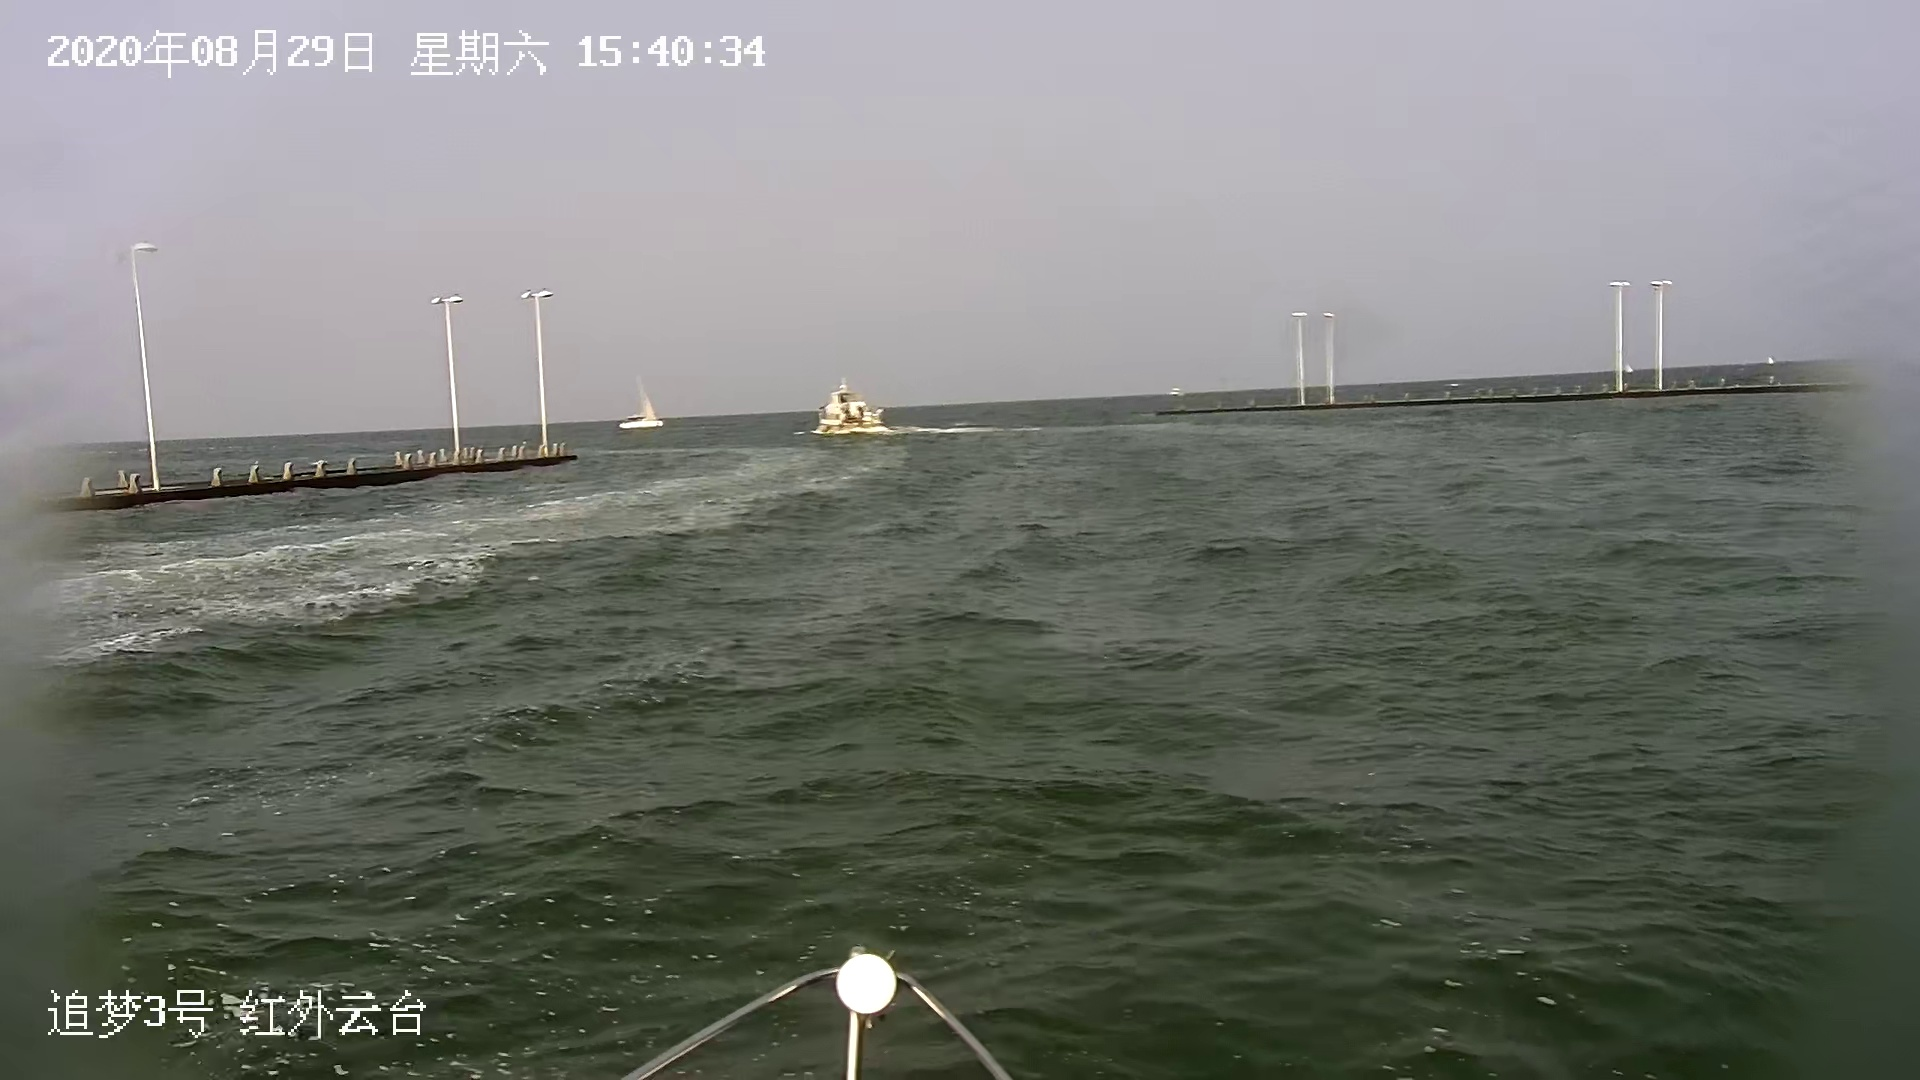barrier: (810, 376, 893, 436), (615, 376, 663, 431), (1168, 386, 1184, 400), (1625, 361, 1634, 376), (1767, 357, 1776, 367), (1447, 382, 1461, 388)
coast: (3, 235, 585, 513), (1146, 270, 1920, 419)
